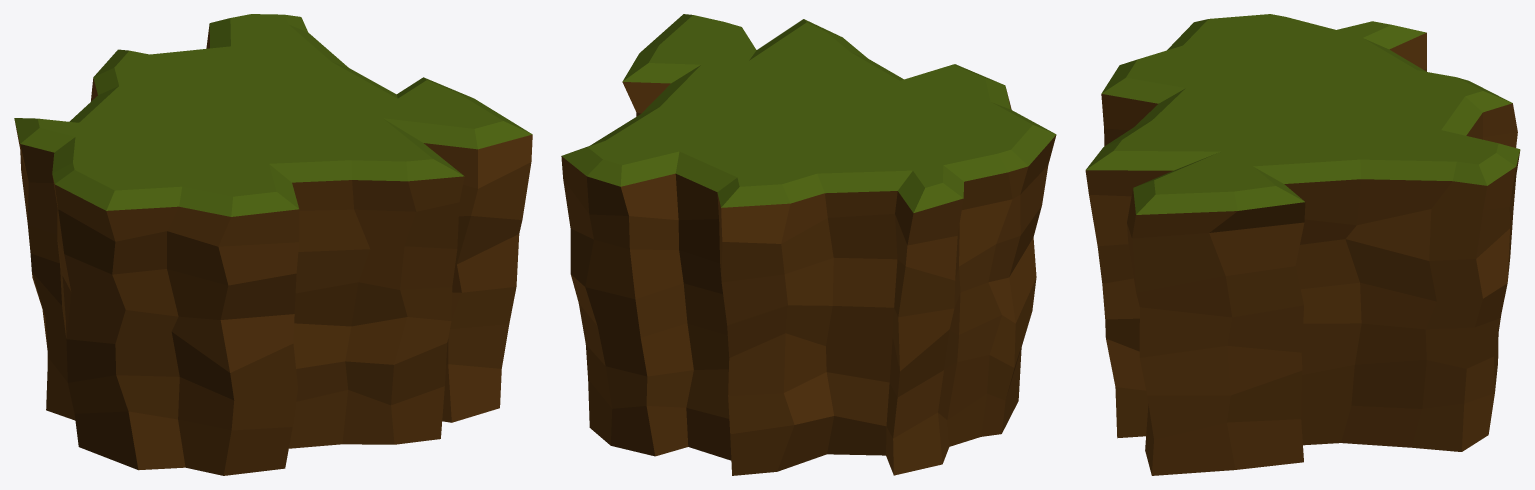
The model's file is klif.fbx.
3 views of the same model, side by side, from view 1: azimuth 30°, elevation 25°; view 2: azimuth 150°, elevation 25°; view 3: azimuth 270°, elevation 25° (orthographic).
Visible parts, largest first — view 1: Plane; view 2: Plane; view 3: Plane.
Boxes of the visible parts, bbox=[...] form: Plane: bbox=[14, 14, 532, 475]; Plane: bbox=[561, 14, 1056, 475]; Plane: bbox=[1085, 14, 1520, 475].
Bounding box in the file's own units: 158 × 105 × 145.
